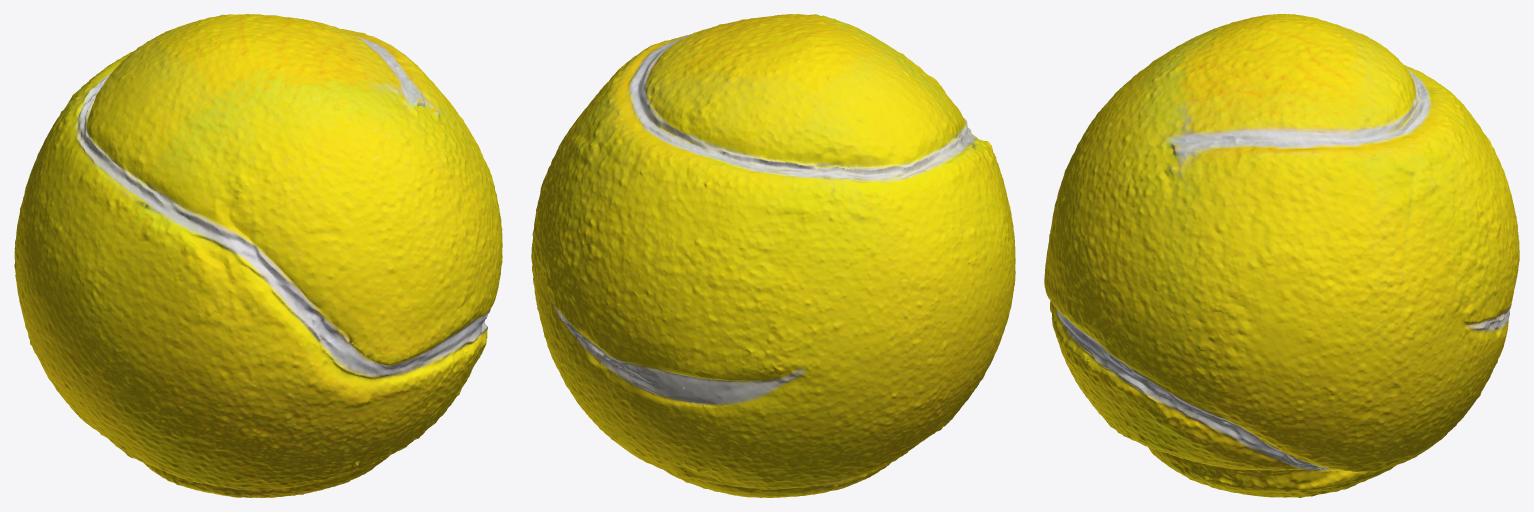
Rendered from Meshy_AI_Tennis_Ball_Bright__0323202210_texture.glb.
3 renders of one model, left to right at view 1: azimuth 30°, elevation 25°; view 2: azimuth 150°, elevation 25°; view 3: azimuth 270°, elevation 25°, orthographic. The views are drawn at different scales.
Size of the model in its own units: 2 by 2 by 1.98.
1 material, 1 textured.
